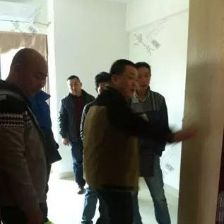head: (6, 46, 52, 104), (109, 56, 140, 103), (134, 61, 154, 96), (65, 73, 84, 100)
